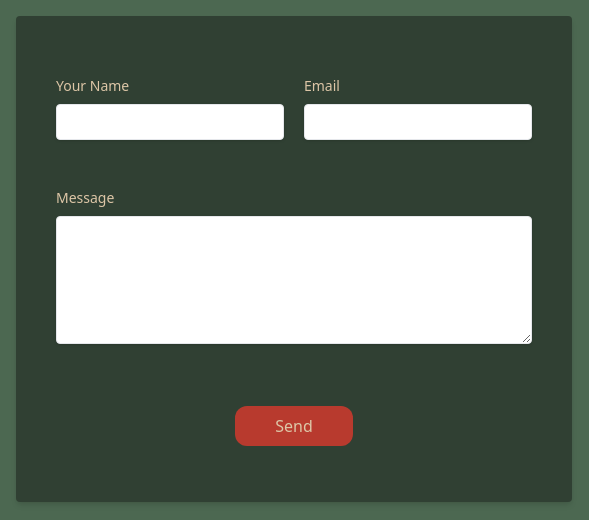
Test: SendMSG › se envía el formulario correctamente
Type "Diego" into the field labelled "Your Name". click: (170, 122)
box: [56,104,284,140]
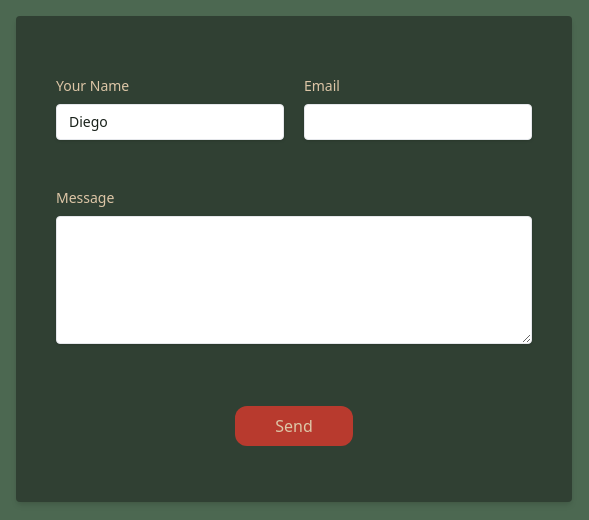
Type "diegoreyes@diegoworks.com" into the field labelled "Email". click: (418, 122)
box: [304,104,532,140]
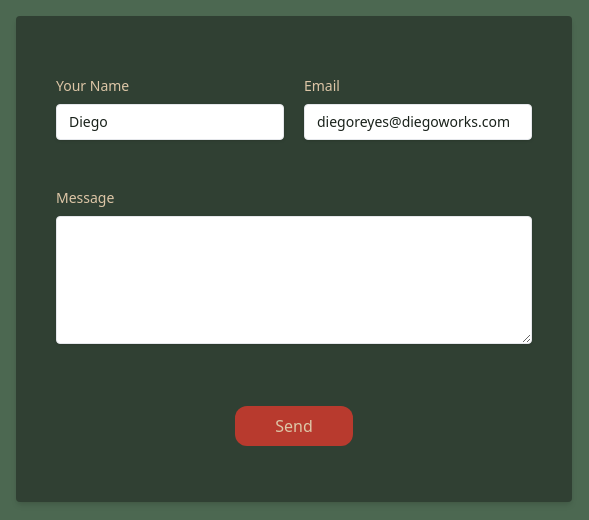
Type "Muy buen servicio!" into the text box labelled "Message". click: (294, 280)
box: [56,216,532,344]
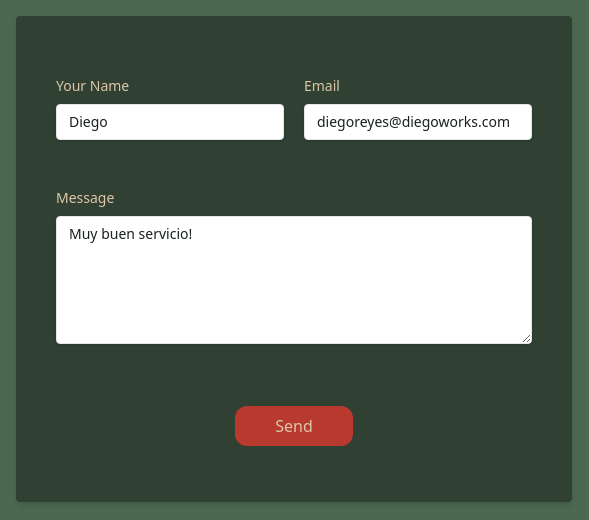
Click the button "Send". click: (294, 426)
box: [235,406,353,446]
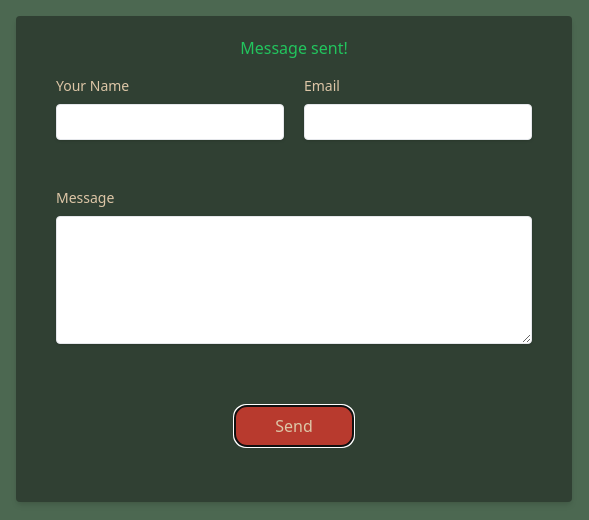
Expected: the text "Message sent!" is shown, [240,37,348,59]
